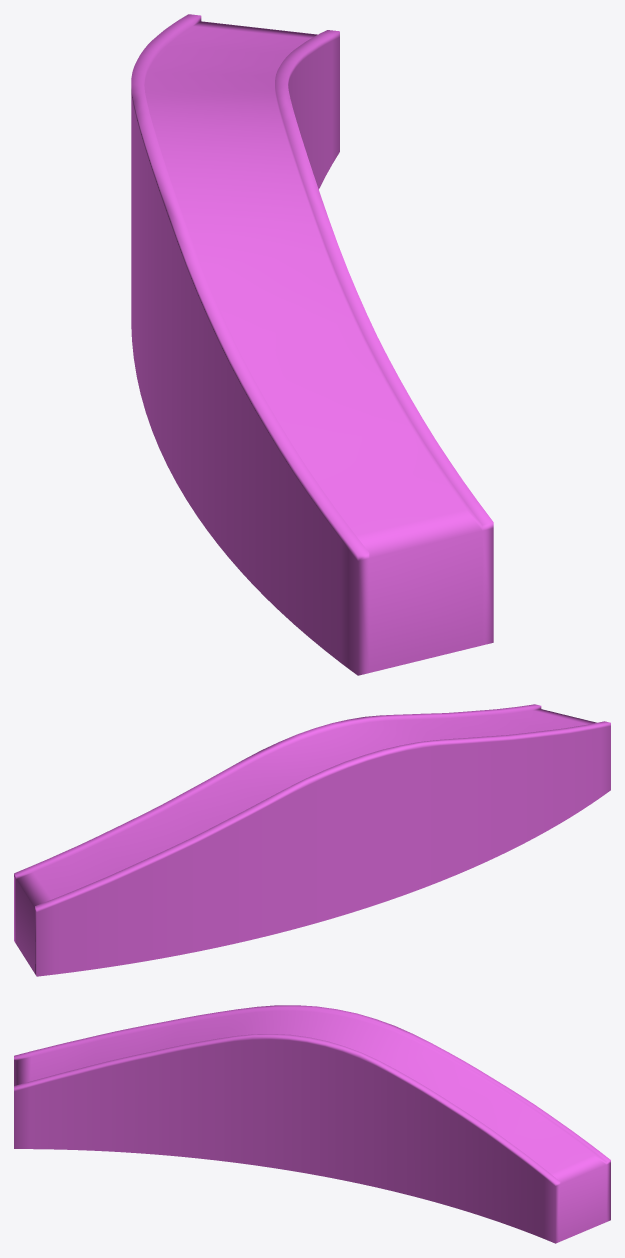
The model's file is RD_Hump_Tall1_45.fbx.
3 renders of one model, top to bottom at view 1: azimuth 30°, elevation 25°; view 2: azimuth 150°, elevation 25°; view 3: azimuth 270°, elevation 25°, orthographic. The views are drawn at different scales.
Visible parts, largest first — view 1: Mesh; view 2: Mesh; view 3: Mesh.
Part boxes in pixels (box(x1,y1,x2,y2)): Mesh: box(131, 14, 493, 675); Mesh: box(14, 704, 610, 976); Mesh: box(14, 1005, 610, 1243).
Bounding box in the file's own units: 1851 × 903 × 3655.
